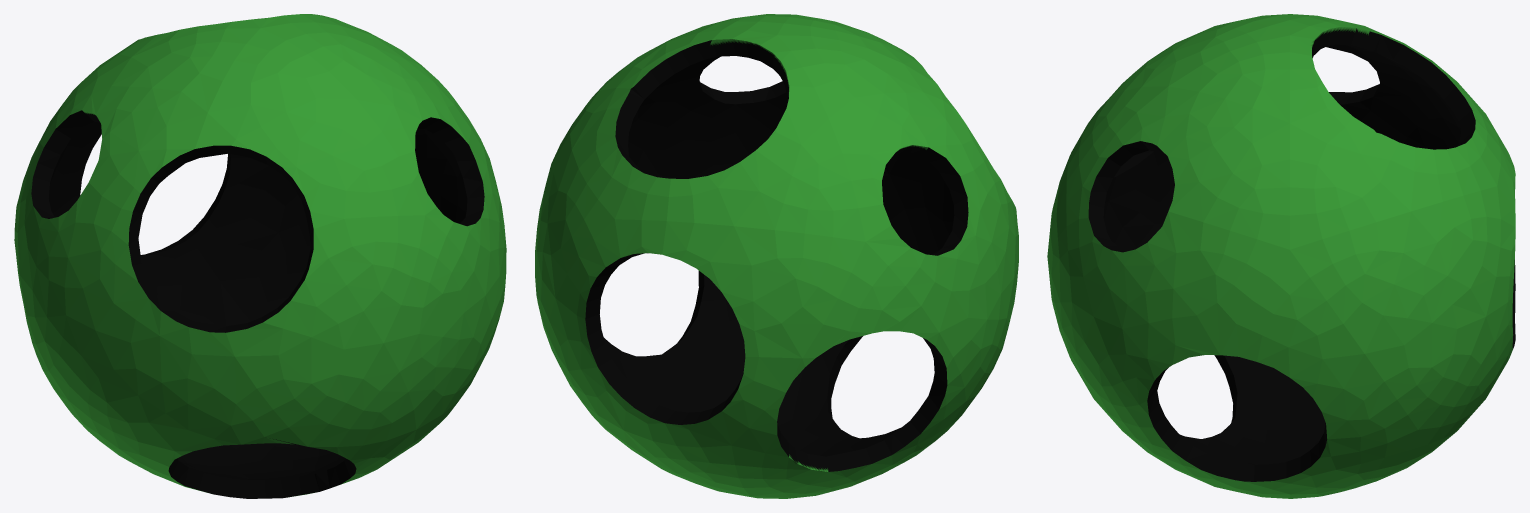
The model's file is GreenPlanet.fbx.
3 views of the same model, side by side, from view 1: azimuth 30°, elevation 25°; view 2: azimuth 150°, elevation 25°; view 3: azimuth 270°, elevation 25° (orthographic).
Visible parts, largest first — view 1: GreenPlanet; view 2: GreenPlanet; view 3: GreenPlanet.
Boxes of the visible parts, x1,y1,x2,y2 form: GreenPlanet: (14, 14, 506, 498); GreenPlanet: (535, 14, 1018, 498); GreenPlanet: (1047, 14, 1515, 498).
Size of the model in its own units: 185 by 186 by 179.
1 material, 1 textured.
